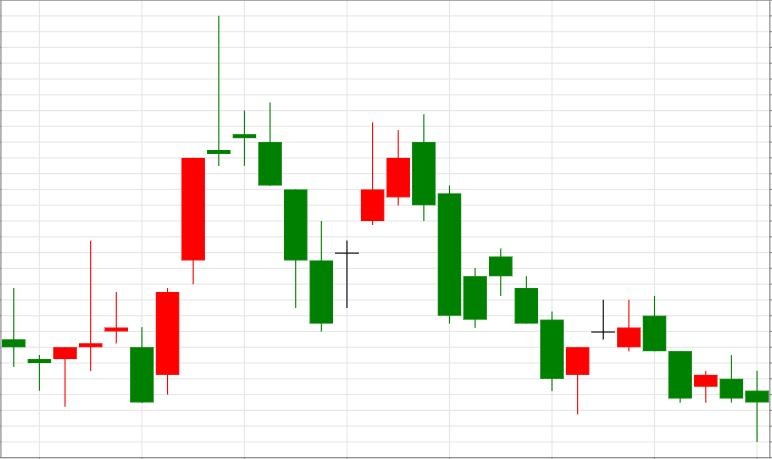hammer_rise: (413, 114, 589, 414)
three_black_crows_fall: (130, 15, 333, 402)
